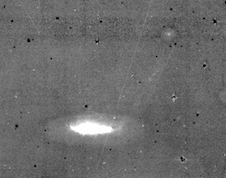Halpha: (113, 43, 186, 140)
